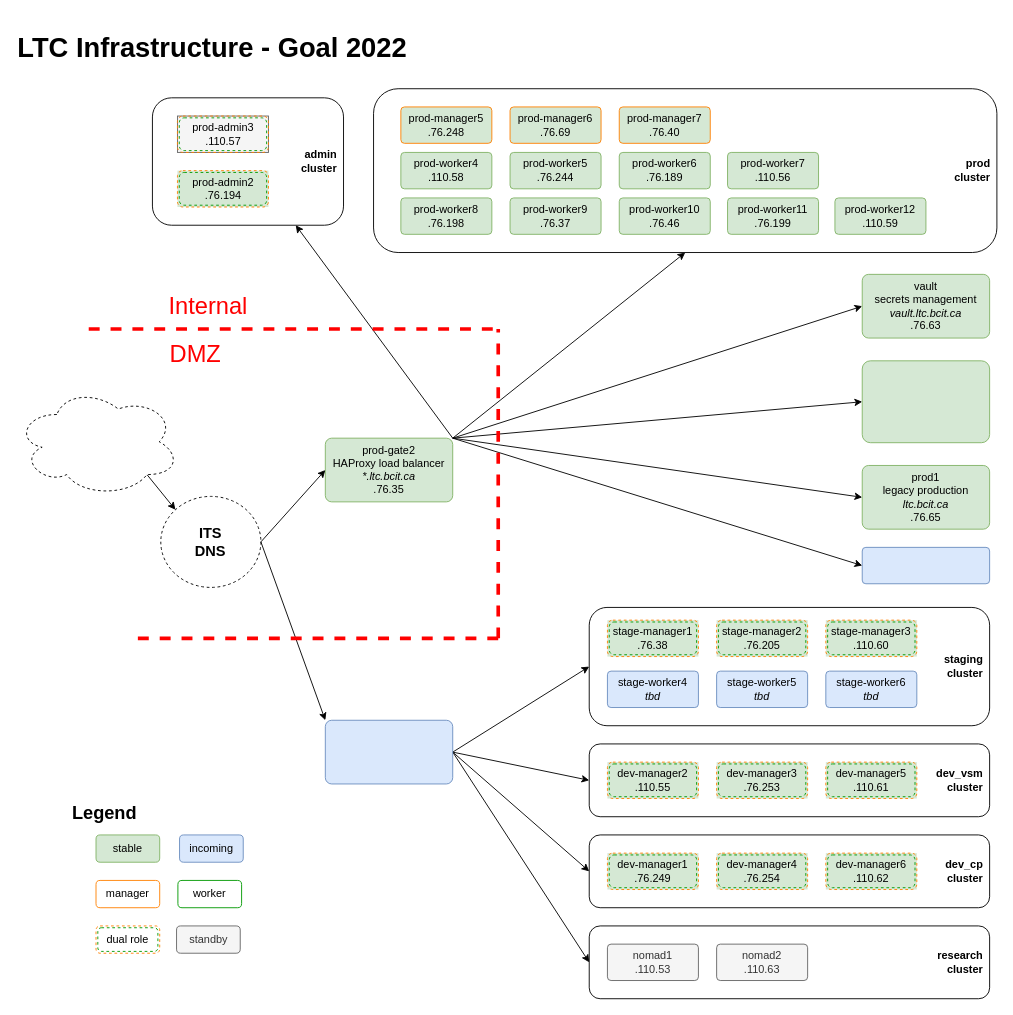
This 1013x1015 diagram has some shape labels left out. The centre of each missing label's shape, as x and y in pixels:
dev-gate3 HAProxy load balancer *.dev.ltc.bcit.ca .110.54: point (388, 751)
Internet: point (97, 441)
prod4 GitLab VCS issues.ltc.bcit.ca mattermost.ltc.bcit.ca .76.41: point (925, 401)
utility1 tbd: point (925, 565)
